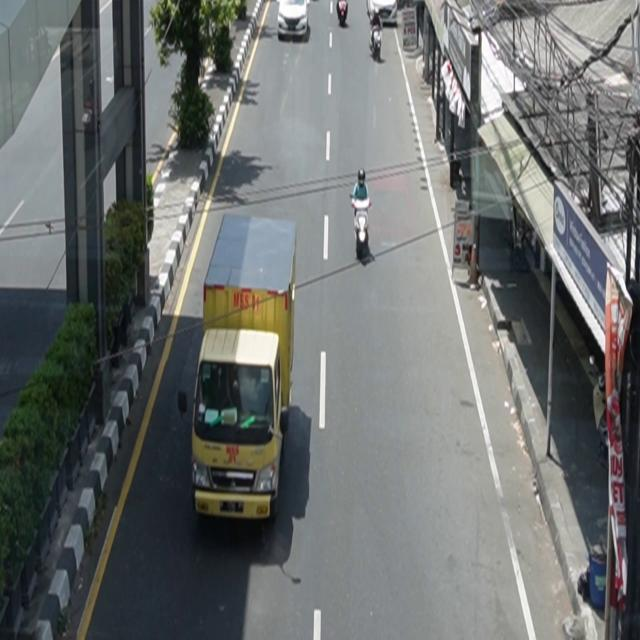car: (277, 1, 310, 41)
truck: (190, 213, 298, 524)
